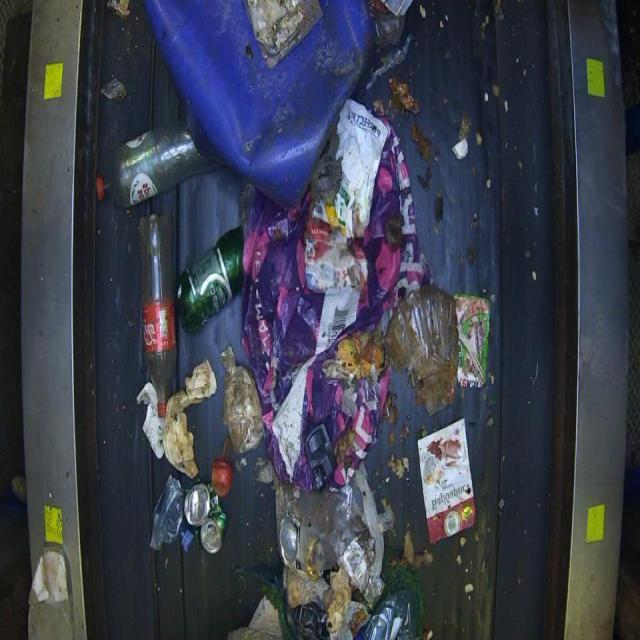cups: (110, 118, 222, 209), (175, 225, 245, 333)
trashbin: (14, 0, 633, 639)
